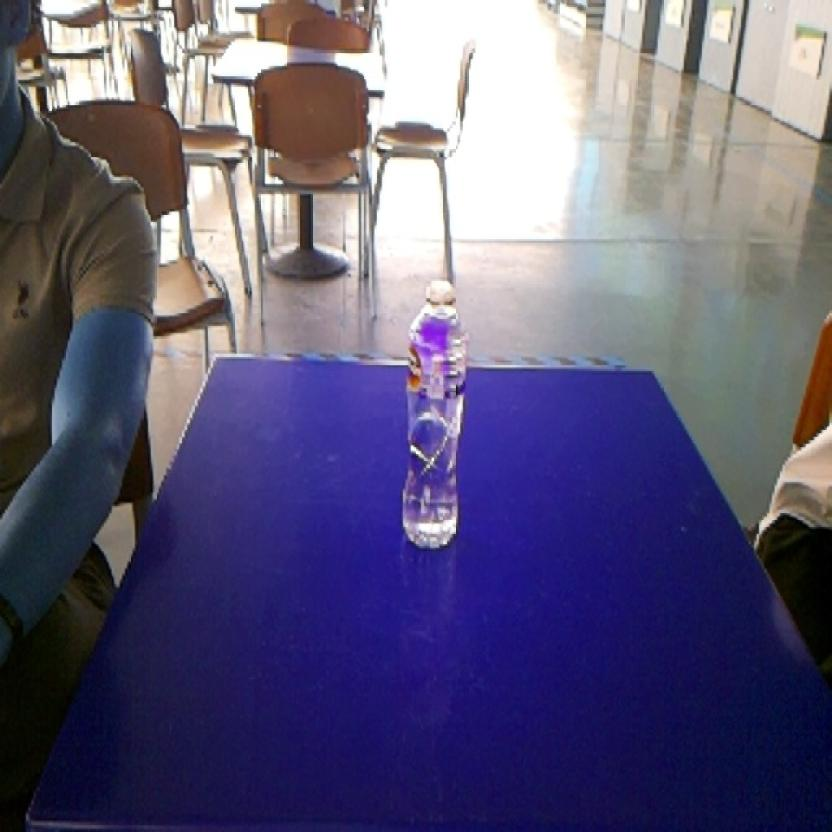no_cap: (392, 269, 475, 561)
